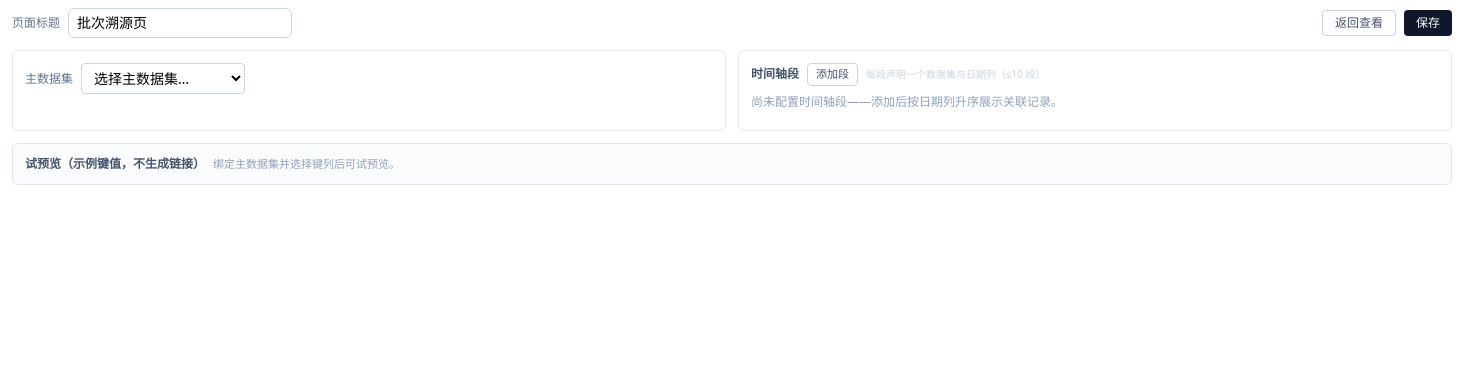
Test: RecordViewEditor（构建器落形） › 多步配置状态保持：事件背靠背派发后主数据集/键列/头部字段/段全保持，保存落形一致
Select "批次集（20 行）" in the dropdown with test id "editor-recordview-dataset" at (163, 78), box [81,63,245,94]
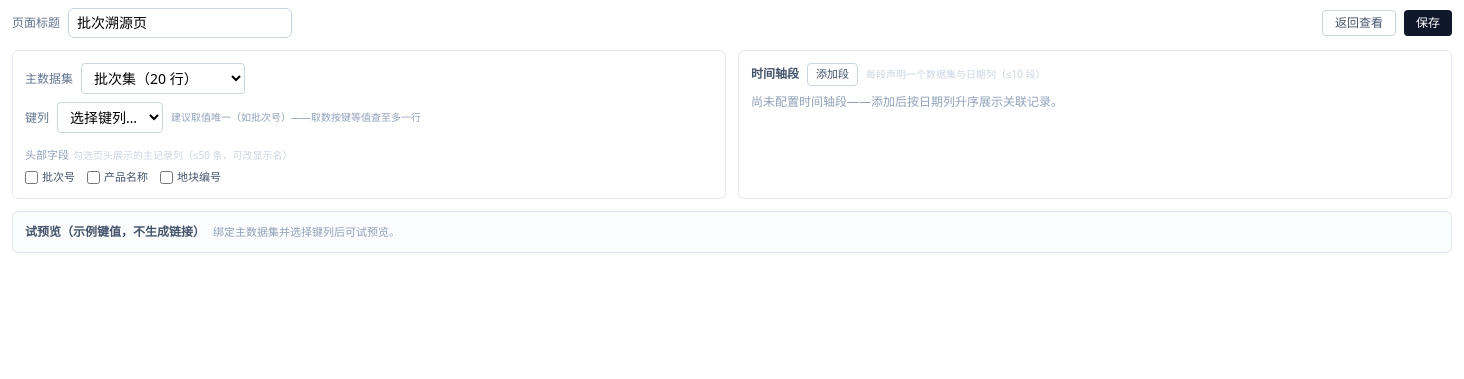
Select "批次号" in the dropdown with test id "editor-recordview-key-column" at (110, 118), box [57,102,163,133]
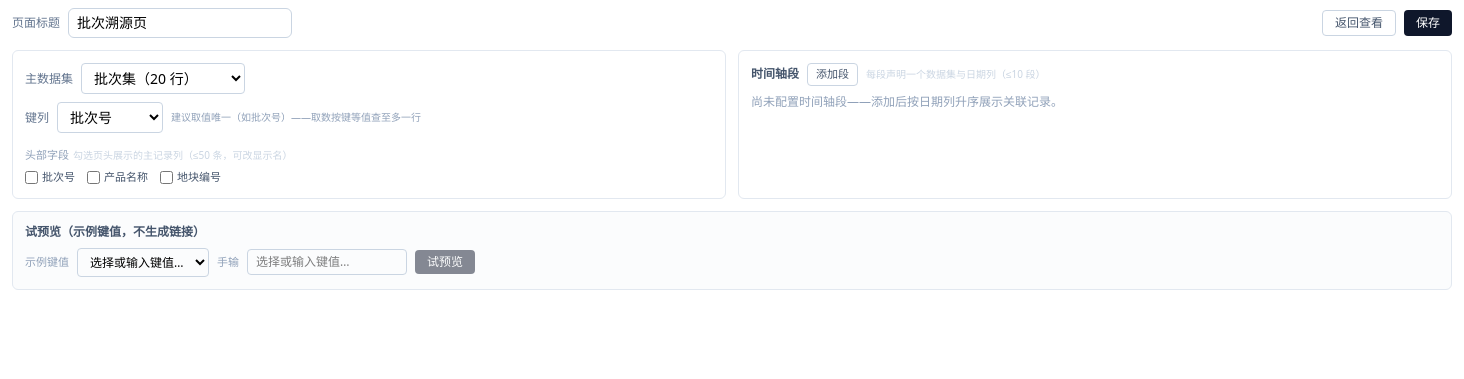
Click the checkbox with test id "editor-recordview-header-column" showing "产品名称" at (94, 177), box [87,171,100,184]
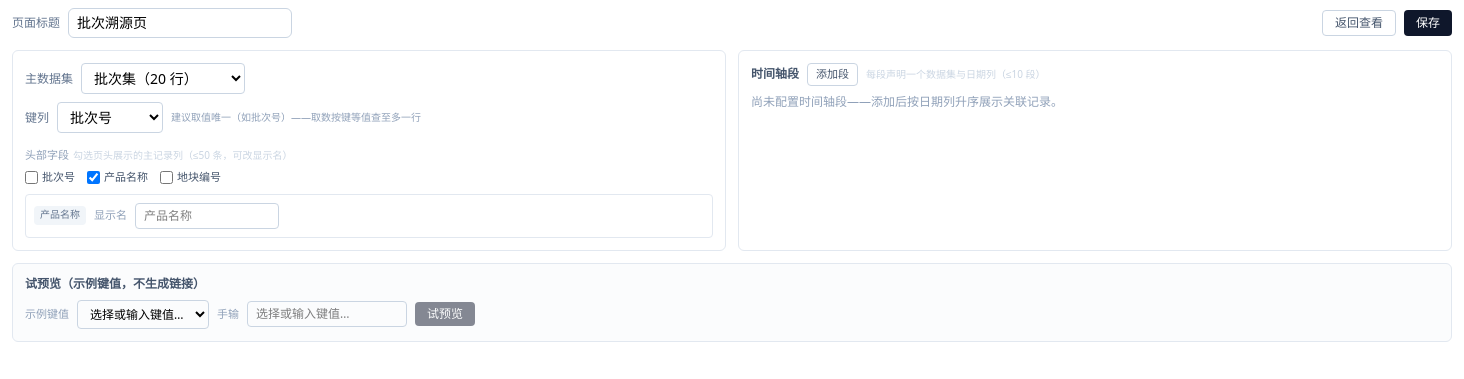
Check: the list item with test id "editor-recordview-field" is shown, box [25,194,713,238]
Click the button with test id "editor-recordview-add-section" at (832, 74), box [807,63,858,86]
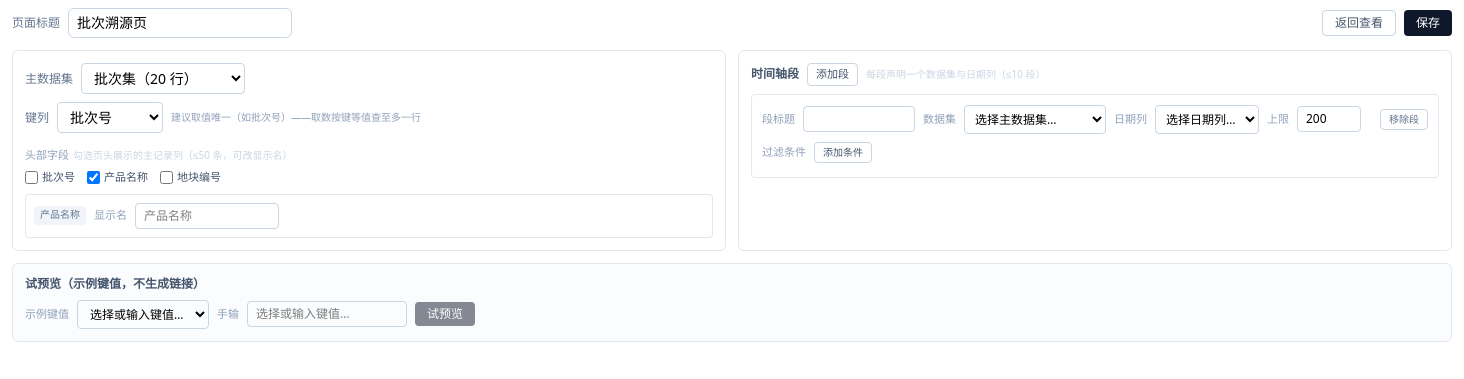
Check: the dropdown with test id "editor-recordview-section-dataset" is shown
Select "打药记录（200 行）" in the dropdown with test id "editor-recordview-section-dataset" at (1035, 119), box [964,104,1106,134]
Select "施药日期" in the dropdown with test id "editor-recordview-section-date-column" at (1207, 119), box [1155,104,1259,134]
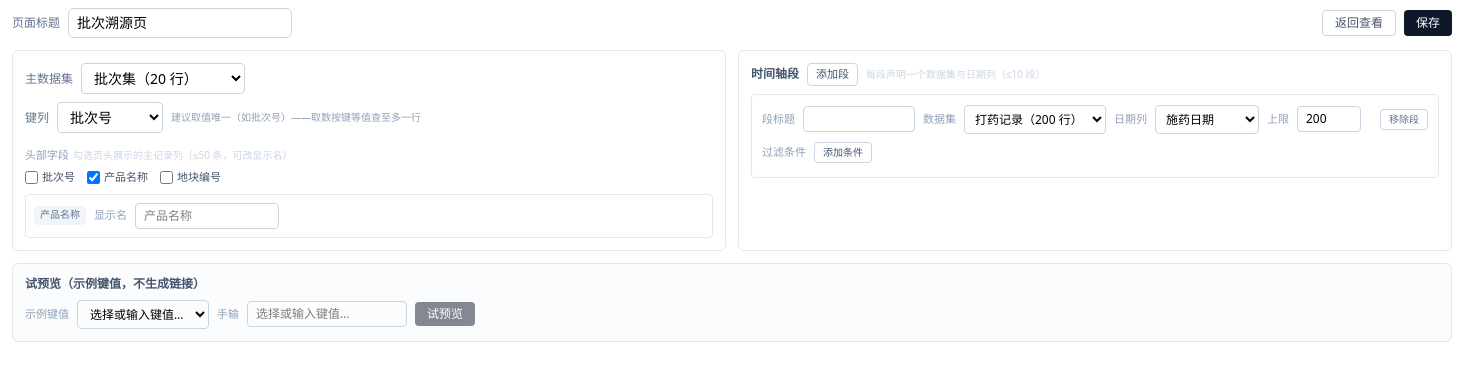
Check: the field with test id "editor-recordview-section-title" is empty
Type "打药记录" into the field with test id "editor-recordview-section-title" at (859, 119), box [803,106,915,132]
Click the button with test id "editor-recordview-save" at (1428, 23), box [1404,10,1452,36]
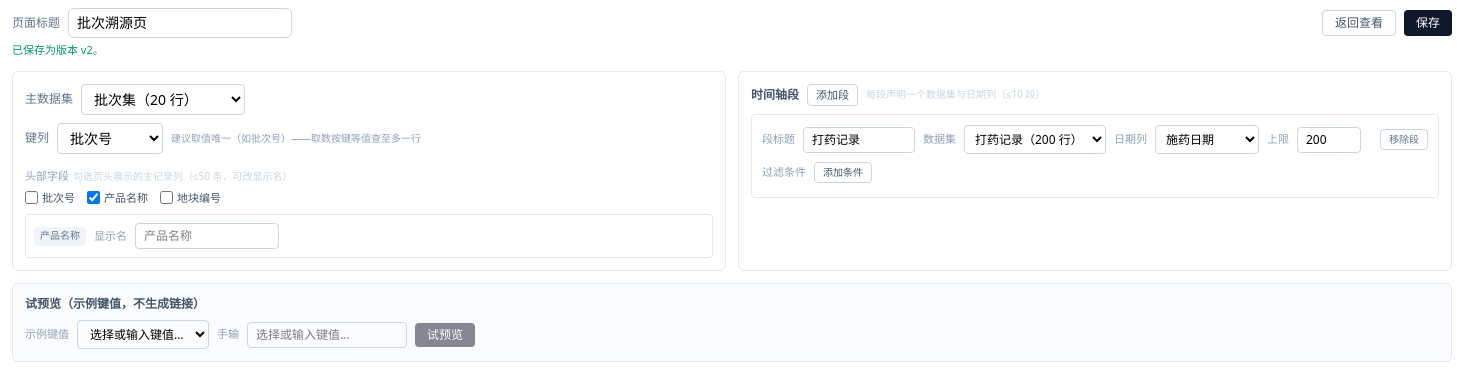
Check: the text "已保存为版本 v2。" is shown, box [12,42,104,57]
